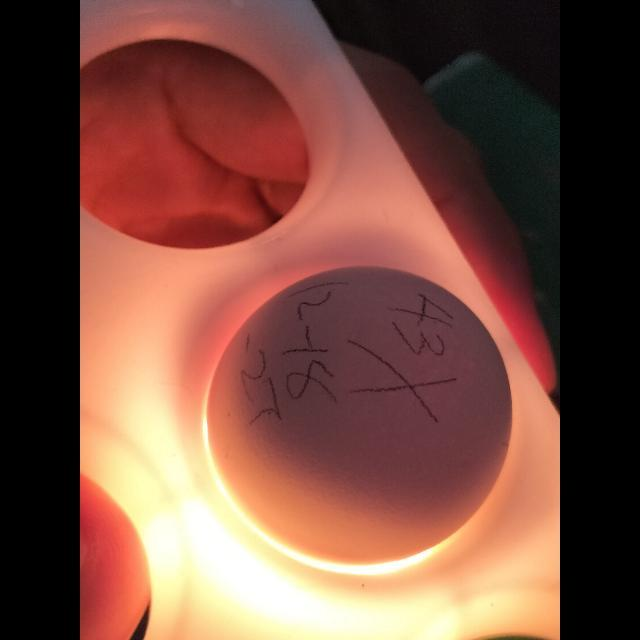Fertile: (209, 261, 505, 565)
